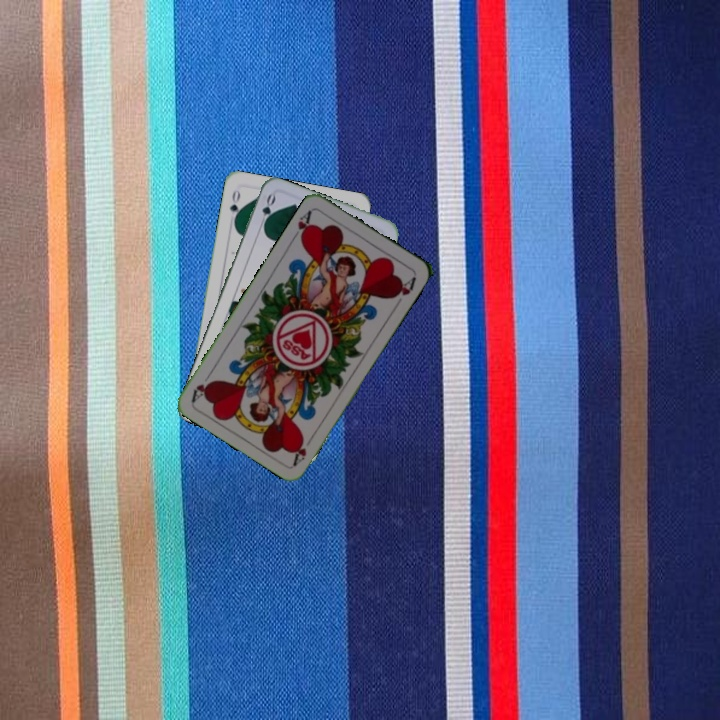GO: (256, 190, 278, 231), (225, 186, 243, 226)
HA: (288, 206, 315, 245), (289, 431, 316, 467)
